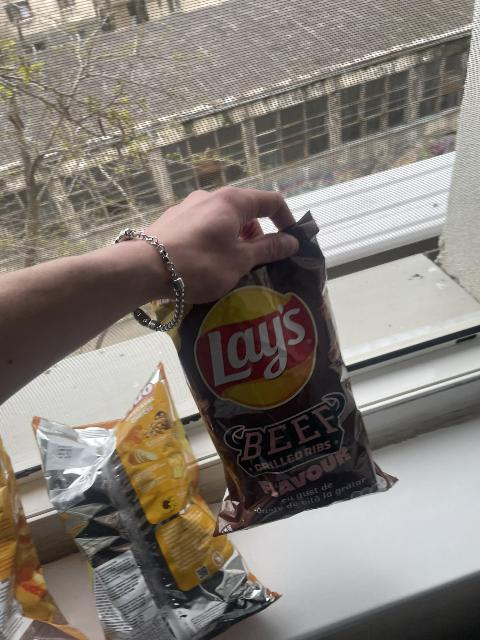Chio Cascaval 125g: (29, 367, 282, 640)
Chio Hula Hoops Cheese 70g: (1, 429, 88, 638)
Lays Beef Grilled Ribs 125g: (165, 210, 397, 535)
